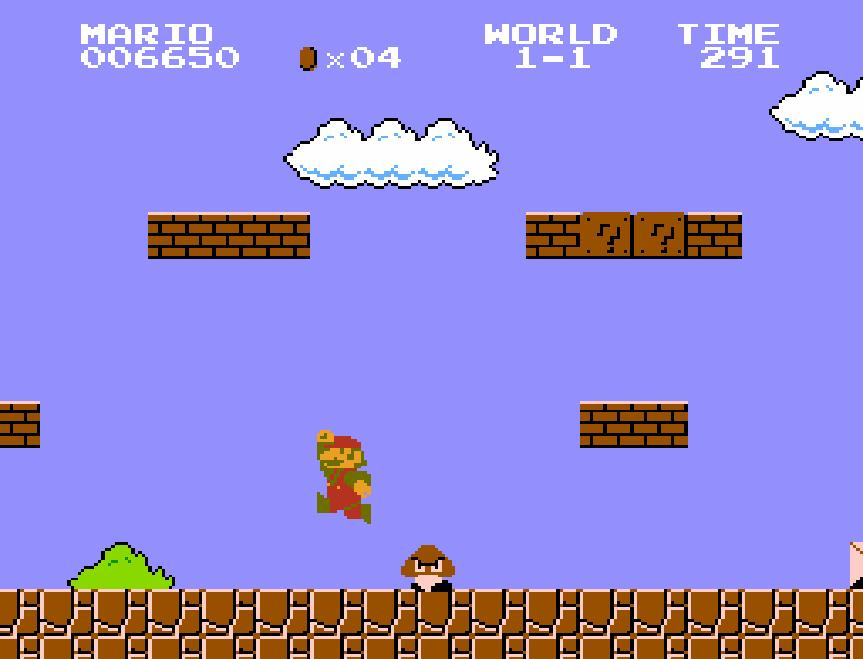big_mario: (314, 428, 372, 526)
